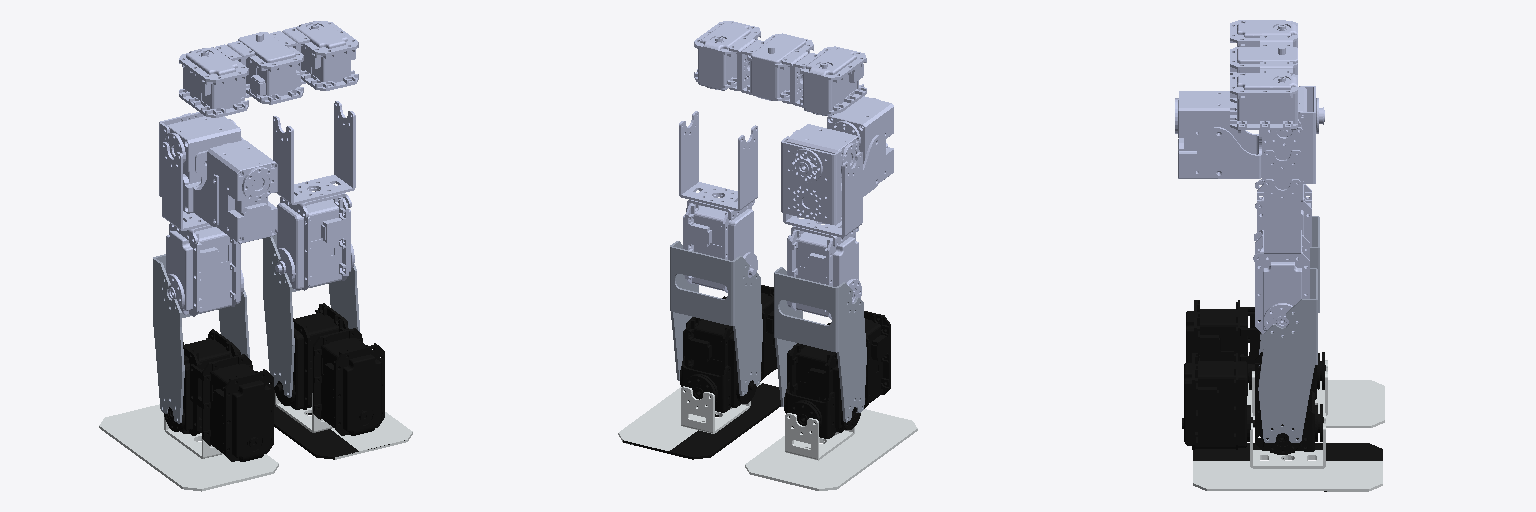
robot.urdf — ros17:
<?xml version="1.0" encoding="utf-8"?>
<!-- This URDF was automatically created by SolidWorks to URDF Exporter! Originally created by [author] ([email redacted]) 
     Commit Version: 1.6.0-4-g7f85cfe  Build Version: 1.6.7995.38578
     For more information, please see http://wiki.ros.org/sw_urdf_exporter -->
<robot
  name="ros17">
  <link
    name="base_link">
    <inertial>
      <origin
        xyz="0.000124114839544887 -0.0113416494897692 0.43472756676415"
        rpy="0 0 0" />
      <mass
        value="0.221525162199479" />
      <inertia
        ixx="0.000101897481547252"
        ixy="6.91625543312247E-08"
        ixz="-5.14067994290901E-08"
        iyy="0.00017338271994926"
        iyz="8.0450949357083E-06"
        izz="0.000158922224778329" />
    </inertial>
    <visual>
      <origin
        xyz="0 0 0"
        rpy="0 0 0" />
      <geometry>
        <mesh
          filename="package://ros17/meshes/base_link.STL" />
      </geometry>
      <material
        name="">
        <color
          rgba="0.886274509803922 0.776470588235294 0.67843137254902 1" />
      </material>
    </visual>
    <collision>
      <origin
        xyz="0 0 0"
        rpy="0 0 0" />
      <geometry>
        <mesh
          filename="package://ros17/meshes/base_link.STL" />
      </geometry>
    </collision>
  </link>
  <link
    name="waist_link">
    <inertial>
      <origin
        xyz="0.0402135117595245 -0.00227355475099582 0.0289825682297939"
        rpy="0 0 0" />
      <mass
        value="0.253025215067274" />
      <inertia
        ixx="0.000207131359721091"
        ixy="1.33833804572889E-10"
        ixz="-1.3723170848139E-07"
        iyy="6.88385602261252E-05"
        iyz="-1.27099608046946E-07"
        izz="0.000198692839118258" />
    </inertial>
    <visual>
      <origin
        xyz="0 0 0"
        rpy="0 0 0" />
      <geometry>
        <mesh
          filename="package://ros17/meshes/waist_link.STL" />
      </geometry>
      <material
        name="">
        <color
          rgba="0.996078431372549 0.870588235294118 0.76078431372549 1" />
      </material>
    </visual>
    <collision>
      <origin
        xyz="0 0 0"
        rpy="0 0 0" />
      <geometry>
        <mesh
          filename="package://ros17/meshes/waist_link.STL" />
      </geometry>
    </collision>
  </link>
  <joint
    name="waist_joint_1"
    type="revolute">
    <origin
      xyz="3.0614E-05 0.016897 0.37241"
      rpy="1.5708 1.5708 0" />
    <parent
      link="base_link" />
    <child
      link="waist_link" />
    <axis
      xyz="0 0.00097878 -1" />
    <limit
      lower="-1.832595713"
      upper="0.55850536"
      effort="3"
      velocity="3" />
  </joint>
  <link
    name="hip_link">
    <inertial>
      <origin
        xyz="1.05862701882953E-05 0.0110096303128459 -0.0226635098061163"
        rpy="0 0 0" />
      <mass
        value="0.138823597375586" />
      <inertia
        ixx="3.8353898191549E-05"
        ixy="-1.39126716249765E-08"
        ixz="-1.76957155598458E-10"
        iyy="2.38836269151381E-05"
        iyz="-1.82744996761977E-07"
        izz="3.15172006085392E-05" />
    </inertial>
    <visual>
      <origin
        xyz="0 0 0"
        rpy="0 0 0" />
      <geometry>
        <mesh
          filename="package://ros17/meshes/hip_link.STL" />
      </geometry>
      <material
        name="">
        <color
          rgba="0.792156862745098 0.819607843137255 0.933333333333333 1" />
      </material>
    </visual>
    <collision>
      <origin
        xyz="0 0 0"
        rpy="0 0 0" />
      <geometry>
        <mesh
          filename="package://ros17/meshes/hip_link.STL" />
      </geometry>
    </collision>
  </link>
  <joint
    name="hip_joint_2"
    type="revolute">
    <origin
      xyz="0.05515 -1.4533E-05 0.01485"
      rpy="1.5708 1.7254E-05 -1.5708" />
    <parent
      link="waist_link" />
    <child
      link="hip_link" />
    <axis
      xyz="0 0 -1" />
    <limit
      lower="-1.832595713"
      upper="0.523598775"
      effort="3"
      velocity="3" />
  </joint>
  <link
    name="hip_right_link">
    <inertial>
      <origin
        xyz="-0.0042261 1.3036E-05 0.010102"
        rpy="0 0 0" />
      <mass
        value="0.0081993" />
      <inertia
        ixx="1.3282E-06"
        ixy="-2.1086E-14"
        ixz="-1.2954E-11"
        iyy="4.7991E-06"
        iyz="3.9175E-12"
        izz="4.4817E-06" />
    </inertial>
    <visual>
      <origin
        xyz="0 0 0"
        rpy="0 0 0" />
      <geometry>
        <mesh
          filename="package://ros17/meshes/hip_right_link.STL" />
      </geometry>
      <material
        name="">
        <color
          rgba="0.79216 0.81961 0.93333 1" />
      </material>
    </visual>
    <collision>
      <origin
        xyz="0 0 0"
        rpy="0 0 0" />
      <geometry>
        <mesh
          filename="package://ros17/meshes/hip_right_link.STL" />
      </geometry>
    </collision>
  </link>
  <joint
    name="hip_right_joint_4"
    type="revolute">
    <origin
      xyz="-0.045659 4.3903E-05 -0.0452"
      rpy="3.1416 0 1.5698" />
    <parent
      link="hip_link" />
    <child
      link="hip_right_link" />
    <axis
      xyz="0 0 1" />
    <limit
      lower="-1.989675345"
      upper="0.34906585"
      effort="3"
      velocity="3" />
  </joint>
  <link
    name="hip2_right_link">
    <inertial>
      <origin
        xyz="-0.0152802051528608 0.000300443248466897 -0.00231147744393123"
        rpy="0 0 0" />
      <mass
        value="0.190491121315995" />
      <inertia
        ixx="4.96584513485555E-05"
        ixy="-1.61906609668239E-07"
        ixz="1.96075652820579E-07"
        iyy="7.60017328225244E-05"
        iyz="4.2533378843281E-09"
        izz="8.0350391717973E-05" />
    </inertial>
    <visual>
      <origin
        xyz="0 0 0"
        rpy="0 0 0" />
      <geometry>
        <mesh
          filename="package://ros17/meshes/hip2_right_link.STL" />
      </geometry>
      <material
        name="">
        <color
          rgba="0.792156862745098 0.819607843137255 0.933333333333333 1" />
      </material>
    </visual>
    <collision>
      <origin
        xyz="0 0 0"
        rpy="0 0 0" />
      <geometry>
        <mesh
          filename="package://ros17/meshes/hip2_right_link.STL" />
      </geometry>
    </collision>
  </link>
  <joint
    name="hip2_right_joint_8"
    type="revolute">
    <origin
      xyz="0.025902 1.4356E-05 0.0319"
      rpy="0.00097878 1.5708 0" />
    <parent
      link="hip_right_link" />
    <child
      link="hip2_right_link" />
    <axis
      xyz="0 0.00097878 1" />
    <limit
      lower="-2.277654671"
      upper="1.431169985"
      effort="10"
      velocity="3" />
  </joint>
  <link
    name="knee_right_link">
    <inertial>
      <origin
        xyz="2.80103607658289E-05 -0.0913090349124385 -0.0296791212752654"
        rpy="0 0 0" />
      <mass
        value="0.0990788181729648" />
      <inertia
        ixx="4.93830312858525E-05"
        ixy="7.60262641747144E-09"
        ixz="-2.3102393163366E-09"
        iyy="2.8911399032688E-05"
        iyz="1.06282733200263E-06"
        izz="3.65640945593291E-05" />
    </inertial>
    <visual>
      <origin
        xyz="0 0 0"
        rpy="0 0 0" />
      <geometry>
        <mesh
          filename="package://ros17/meshes/knee_right_link.STL" />
      </geometry>
      <material
        name="">
        <color
          rgba="0.792156862745098 0.819607843137255 0.933333333333333 1" />
      </material>
    </visual>
    <collision>
      <origin
        xyz="0 0 0"
        rpy="0 0 0" />
      <geometry>
        <mesh
          filename="package://ros17/meshes/knee_right_link.STL" />
      </geometry>
    </collision>
  </link>
  <joint
    name="knee_right_joint_6"
    type="revolute">
    <origin
      xyz="0 0.029774 -0.026449"
      rpy="-3.1416 -1.5698 1.5708" />
    <parent
      link="hip2_right_link" />
    <child
      link="knee_right_link" />
    <axis
      xyz="0 0 -1" />
    <limit
      lower="-2.740166923"
      upper="0.296705973"
      effort="10"
      velocity="3" />
  </joint>
  <link
    name="knee2_right_link">
    <inertial>
      <origin
        xyz="0.00804899987914626 -0.0336820805195894 0.0600831335075139"
        rpy="0 0 0" />
      <mass
        value="0.0193582268613658" />
      <inertia
        ixx="3.00376034908172E-05"
        ixy="-4.16144017849549E-06"
        ixz="-5.26914050196279E-20"
        iyy="1.54337706515249E-05"
        iyz="-1.75745302770251E-19"
        izz="2.14370365193726E-05" />
    </inertial>
    <visual>
      <origin
        xyz="0 0 0"
        rpy="0 0 0" />
      <geometry>
        <mesh
          filename="package://ros17/meshes/knee2_right_link.STL" />
      </geometry>
      <material
        name="">
        <color
          rgba="0.666666666666667 0.698039215686274 0.768627450980392 1" />
      </material>
    </visual>
    <collision>
      <origin
        xyz="0 0 0"
        rpy="0 0 0" />
      <geometry>
        <mesh
          filename="package://ros17/meshes/knee2_right_link.STL" />
      </geometry>
    </collision>
  </link>
  <joint
    name="knee2_right_joint_10"
    type="revolute">
    <origin
      xyz="-0.00128 -0.11283 0.030619"
      rpy="-3.1416 0 -3.1416" />
    <parent
      link="knee_right_link" />
    <child
      link="knee2_right_link" />
    <axis
      xyz="0 0 -1" />
    <limit
      lower="-1.684242726"
      upper="1.500983155"
      effort="10"
      velocity="3" />
  </joint>
  <link
    name="angkle_right_link">
    <inertial>
      <origin
        xyz="0.0163203907687403 0.00378323508746915 -0.0331964377564397"
        rpy="0 0 0" />
      <mass
        value="0.237978786468489" />
      <inertia
        ixx="0.000105820220556833"
        ixy="-1.07371172497559E-06"
        ixz="-8.74353209543453E-14"
        iyy="0.00017128304624527"
        iyz="1.06118699693084E-06"
        izz="0.000168335248057352" />
    </inertial>
    <visual>
      <origin
        xyz="0 0 0"
        rpy="0 0 0" />
      <geometry>
        <mesh
          filename="package://ros17/meshes/angkle_right_link.STL" />
      </geometry>
      <material
        name="">
        <color
          rgba="0.109803921568627 0.109803921568627 0.109803921568627 1" />
      </material>
    </visual>
    <collision>
      <origin
        xyz="0 0 0"
        rpy="0 0 0" />
      <geometry>
        <mesh
          filename="package://ros17/meshes/angkle_right_link.STL" />
      </geometry>
    </collision>
  </link>
  <joint
    name="angkle_right_joint_12"
    type="revolute">
    <origin
      xyz="-0.00128 -0.095 0.029519"
      rpy="3.1416 0 -3.1416" />
    <parent
      link="knee2_right_link" />
    <child
      link="angkle_right_link" />
    <axis
      xyz="0 0 1" />
    <limit
      lower="-1.9373"
      upper="1.85"
      effort="10"
      velocity="3" />
  </joint>
  <link
    name="foot_right_link">
    <inertial>
      <origin
        xyz="-0.00786355244260531 -0.029263878816474 0.0229100000022198"
        rpy="0 0 0" />
      <mass
        value="0.0728910331402481" />
      <inertia
        ixx="0.000102630010024421"
        ixy="1.59693308576024E-08"
        ixz="-2.71242954596279E-14"
        iyy="0.000132875190059069"
        iyz="8.23025792940788E-16"
        izz="3.33197131957042E-05" />
    </inertial>
    <visual>
      <origin
        xyz="0 0 0"
        rpy="0 0 0" />
      <geometry>
        <mesh
          filename="package://ros17/meshes/foot_right_link.STL" />
      </geometry>
      <material
        name="">
        <color
          rgba="0.898039215686275 0.917647058823529 0.929411764705882 1" />
      </material>
    </visual>
    <collision>
      <origin
        xyz="0 0 0"
        rpy="0 0 0" />
      <geometry>
        <mesh
          filename="package://ros17/meshes/foot_right_link.STL" />
      </geometry>
    </collision>
  </link>
  <joint
    name="foot_right_14"
    type="revolute">
    <origin
      xyz="0.0188 0 -0.0308"
      rpy="-1.5708 -1.5703 1.5708" />
    <parent
      link="angkle_right_link" />
    <child
      link="foot_right_link" />
    <axis
      xyz="0 0 1" />
    <limit
      lower="-2.44346095"
      upper="1.74532925"
      effort="10"
      velocity="3" />
  </joint>
  <link
    name="hip_left_link">
    <inertial>
      <origin
        xyz="-0.0042261600607178 3.6392684704678E-06 0.0101024507687434"
        rpy="0 0 0" />
      <mass
        value="0.00819925239367436" />
      <inertia
        ixx="1.32821470046737E-06"
        ixy="-3.33735824871366E-09"
        ixz="-1.47194999853585E-11"
        iyy="4.79909257297121E-06"
        iyz="1.71482639026451E-10"
        izz="4.48167539560129E-06" />
    </inertial>
    <visual>
      <origin
        xyz="0 0 0"
        rpy="0 0 0" />
      <geometry>
        <mesh
          filename="package://ros17/meshes/hip_left_link.STL" />
      </geometry>
      <material
        name="">
        <color
          rgba="0.792156862745098 0.819607843137255 0.933333333333333 1" />
      </material>
    </visual>
    <collision>
      <origin
        xyz="0 0 0"
        rpy="0 0 0" />
      <geometry>
        <mesh
          filename="package://ros17/meshes/hip_left_link.STL" />
      </geometry>
    </collision>
  </link>
  <joint
    name="hip_left_joint_3"
    type="revolute">
    <origin
      xyz="0.045659 -4.3903E-05 -0.0452"
      rpy="3.1411 0 1.5708" />
    <parent
      link="hip_link" />
    <child
      link="hip_left_link" />
    <axis
      xyz="0 -0.00052794 1" />
    <limit
      lower="-1.701696019"
      upper="0.76794487"
      effort="3"
      velocity="3" />
  </joint>
  <link
    name="hip2_left_link">
    <inertial>
      <origin
        xyz="0.0152802051527449 -0.000304960239449467 0.00231049476447931"
        rpy="0 0 0" />
      <mass
        value="0.190491121319325" />
      <inertia
        ixx="4.96584513490811E-05"
        ixy="-1.61860331826735E-07"
        ixz="1.9575862809758E-07"
        iyy="7.60017328226701E-05"
        iyz="-4.25333764200973E-09"
        izz="8.03503917184428E-05" />
    </inertial>
    <visual>
      <origin
        xyz="0 0 0"
        rpy="0 0 0" />
      <geometry>
        <mesh
          filename="package://ros17/meshes/hip2_left_link.STL" />
      </geometry>
      <material
        name="">
        <color
          rgba="0.792156862745098 0.819607843137255 0.933333333333333 1" />
      </material>
    </visual>
    <collision>
      <origin
        xyz="0 0 0"
        rpy="0 0 0" />
      <geometry>
        <mesh
          filename="package://ros17/meshes/hip2_left_link.STL" />
      </geometry>
    </collision>
  </link>
  <joint
    name="hip2_left_joint_7"
    type="revolute">
    <origin
      xyz="0.024622 2.1189E-05 0.0319"
      rpy="1.5708 -1.5703 -1.5708" />
    <parent
      link="hip_left_link" />
    <child
      link="hip2_left_link" />
    <axis
      xyz="0 0.00097878 -1" />
    <limit
      lower="-2.277654671"
      upper="0.872664625"
      effort="10"
      velocity="3" />
  </joint>
  <link
    name="knee_left_link">
    <inertial>
      <origin
        xyz="-3.43481037915483E-05 -0.0913246910017286 -0.0296309100289814"
        rpy="0 0 0" />
      <mass
        value="0.0990788181435478" />
      <inertia
        ixx="4.93830312726799E-05"
        ixy="-1.08863074097139E-08"
        ixz="-2.30450261452917E-09"
        iyy="2.89125233788717E-05"
        iyz="1.06686670811748E-06"
        izz="3.65629701960632E-05" />
    </inertial>
    <visual>
      <origin
        xyz="0 0 0"
        rpy="0 0 0" />
      <geometry>
        <mesh
          filename="package://ros17/meshes/knee_left_link.STL" />
      </geometry>
      <material
        name="">
        <color
          rgba="0.792156862745098 0.819607843137255 0.933333333333333 1" />
      </material>
    </visual>
    <collision>
      <origin
        xyz="0 0 0"
        rpy="0 0 0" />
      <geometry>
        <mesh
          filename="package://ros17/meshes/knee_left_link.STL" />
      </geometry>
    </collision>
  </link>
  <joint
    name="knee_left_joint_5"
    type="revolute">
    <origin
      xyz="0 -0.029826 0.026391"
      rpy="-3.1411 -1.5698 -1.5708" />
    <parent
      link="hip2_left_link" />
    <child
      link="knee_left_link" />
    <axis
      xyz="0 -0.00052794 -1" />
    <limit
      lower="-1.762782543"
      upper="2.23402144"
      effort="10"
      velocity="3" />
  </joint>
  <link
    name="knee2_left_link">
    <inertial>
      <origin
        xyz="-0.0336820845821866 0.0106089827811632 0.0600831335075176"
        rpy="0 0 0" />
      <mass
        value="0.0193582268613658" />
      <inertia
        ixx="1.54337748764643E-05"
        ixy="-4.16144759182268E-06"
        ixz="1.84193270080858E-19"
        iyy="3.00375992658779E-05"
        iyz="-3.9200089228888E-20"
        izz="2.14370365193726E-05" />
    </inertial>
    <visual>
      <origin
        xyz="0 0 0"
        rpy="0 0 0" />
      <geometry>
        <mesh
          filename="package://ros17/meshes/knee2_left_link.STL" />
      </geometry>
      <material
        name="">
        <color
          rgba="0.666666666666667 0.698039215686274 0.768627450980392 1" />
      </material>
    </visual>
    <collision>
      <origin
        xyz="0 0 0"
        rpy="0 0 0" />
      <geometry>
        <mesh
          filename="package://ros17/meshes/knee2_left_link.STL" />
      </geometry>
    </collision>
  </link>
  <joint
    name="knee2_left_joint_9"
    type="revolute">
    <origin
      xyz="-0.00128 -0.11281 0.030678"
      rpy="3.1416 0.00052794 1.5708" />
    <parent
      link="knee_left_link" />
    <child
      link="knee2_left_link" />
    <axis
      xyz="0 0 -1" />
    <limit
      lower="-2.356194488"
      upper="0.191986218"
      effort="10"
      velocity="3" />
  </joint>
  <link
    name="angkle_left_link">
    <inertial>
      <origin
        xyz="-0.0229335658249763 0.0152939106906944 -0.0307868819473238"
        rpy="0 0 0" />
      <mass
        value="0.181635293744239" />
      <inertia
        ixx="7.52709488472468E-05"
        ixy="1.07043030324013E-06"
        ixz="-1.07401466178785E-13"
        iyy="4.69097394400458E-05"
        iyz="1.06446704295086E-06"
        izz="7.47612900454884E-05" />
    </inertial>
    <visual>
      <origin
        xyz="0 0 0"
        rpy="0 0 0" />
      <geometry>
        <mesh
          filename="package://ros17/meshes/angkle_left_link.STL" />
      </geometry>
      <material
        name="">
        <color
          rgba="0.109803921568627 0.109803921568627 0.109803921568627 1" />
      </material>
    </visual>
    <collision>
      <origin
        xyz="0 0 0"
        rpy="0 0 0" />
      <geometry>
        <mesh
          filename="package://ros17/meshes/angkle_left_link.STL" />
      </geometry>
    </collision>
  </link>
  <joint
    name="angkle_left_joint_11"
    type="revolute">
    <origin
      xyz="-0.095 0.00128 0.029519"
      rpy="3.1416 0 1.5708" />
    <parent
      link="knee2_left_link" />
    <child
      link="angkle_left_link" />
    <axis
      xyz="0 0 1" />
    <limit
      lower="-2.487094181"
      upper="0.785398163"
      effort="10"
      velocity="3" />
  </joint>
  <link
    name="foot_left_link">
    <inertial>
      <origin
        xyz="0.0078327 -0.029272 0.02291"
        rpy="0 0 0" />
      <mass
        value="0.072891" />
      <inertia
        ixx="0.00010263"
        ixy="1.5969E-08"
        ixz="-3.5376E-14"
        iyy="0.00013288"
        iyz="-5.1443E-11"
        izz="3.332E-05" />
    </inertial>
    <visual>
      <origin
        xyz="0 0 0"
        rpy="0 0 0" />
      <geometry>
        <mesh
          filename="package://ros17/meshes/foot_left_link.STL" />
      </geometry>
      <material
        name="">
        <color
          rgba="0.89804 0.91765 0.92941 1" />
      </material>
    </visual>
    <collision>
      <origin
        xyz="0 0 0"
        rpy="0 0 0" />
      <geometry>
        <mesh
          filename="package://ros17/meshes/foot_left_link.STL" />
      </geometry>
    </collision>
  </link>
  <joint
    name="foot_left_joint_13"
    type="revolute">
    <origin
      xyz="-0.0188 0 -0.0308"
      rpy="1.5708 1.5703 1.5708" />
    <parent
      link="angkle_left_link" />
    <child
      link="foot_left_link" />
    <axis
      xyz="0 0 1" />
    <limit
      lower="-2.44346095"
      upper="1.710422665"
      effort="10"
      velocity="3" />
  </joint>
</robot>

--- Render facts (derived) ---
The picture shows the robot from 3 angles, left to right: view 1: azimuth 30°, elevation 25°; view 2: azimuth 150°, elevation 25°; view 3: azimuth 270°, elevation 25°; orthographic projection.
Robot: ros17 — 15 links, 14 joints (14 revolute); root link base_link; default pose: every joint at zero.
Links seen in each view (by area): view 1: hip_link, angkle_right_link, hip2_left_link, knee_right_link, angkle_left_link, knee_left_link, foot_left_link, knee2_left_link, knee2_right_link, foot_right_link; view 2: hip_link, hip2_left_link, angkle_right_link, knee_right_link, foot_left_link, knee2_left_link, knee2_right_link, angkle_left_link, knee_left_link, foot_right_link; view 3: angkle_right_link, hip2_left_link, knee_right_link, hip_link, knee2_right_link, foot_right_link, angkle_left_link, foot_left_link, knee_left_link, knee2_left_link.
Boxes of the visible links, x1,y1,x2,y2 form: hip_link: (179,21,358,117); angkle_right_link: (274,303,404,459); hip2_left_link: (159,112,277,243); knee_right_link: (273,101,355,290); angkle_left_link: (164,329,273,461); knee_left_link: (162,137,243,316); foot_left_link: (99,404,278,491); knee2_left_link: (153,254,249,423); knee2_right_link: (263,234,359,397); foot_right_link: (269,383,412,459); hip_link: (694,21,866,116); hip2_left_link: (781,96,893,224); angkle_right_link: (623,285,780,459); knee_right_link: (679,111,757,292); foot_left_link: (745,409,917,490); knee2_left_link: (774,267,866,422); knee2_right_link: (670,241,762,395); angkle_left_link: (784,311,890,438); knee_left_link: (783,152,862,319); foot_right_link: (618,383,761,450); angkle_right_link: (1182,352,1382,491); hip2_left_link: (1175,86,1324,183); knee_right_link: (1253,150,1309,336); hip_link: (1230,20,1297,130); knee2_right_link: (1258,268,1317,442); foot_right_link: (1193,413,1382,491); angkle_left_link: (1186,300,1325,399); foot_left_link: (1247,360,1384,427); knee_left_link: (1255,127,1311,246); knee2_left_link: (1260,216,1319,339).
Size in the robot's own frame: 0.1905 by 0.1549 by 0.3173 metres.
Meshes: 15 distinct files referenced, 10 mesh visuals loaded (10 binary STL); not drawn: 5 (reference not matched to a file when rendering).
